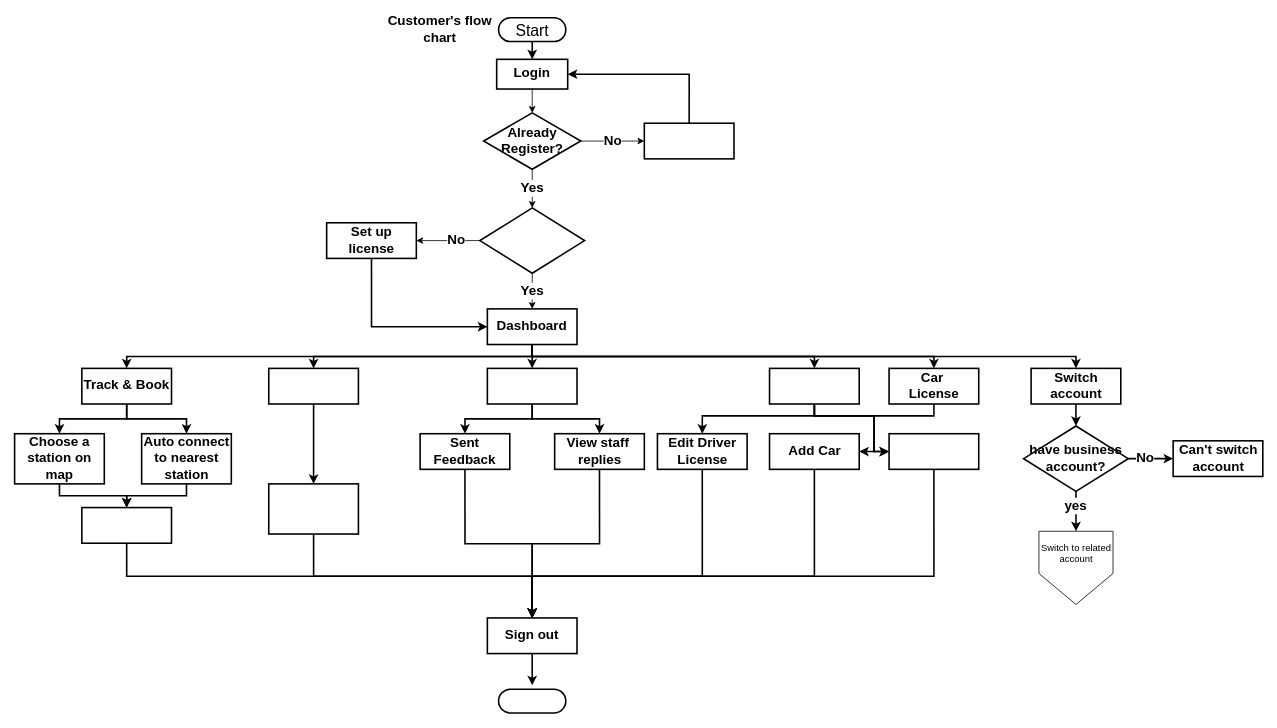
Some shapes in this 1277 by 728 pixel diagram are drawn without their labels. Each missing label, with the centre of its shape:
Already setup license?: the point at 532,240
Book: the point at 126,525
Edit Car License: the point at 933,451
Edit Profile: the point at 814,385
End: the point at 531,700
Feedback & Replies: the point at 531,385
Register Your account: the point at 688,140
View payment history: the point at 313,508
View usage history: the point at 313,385
